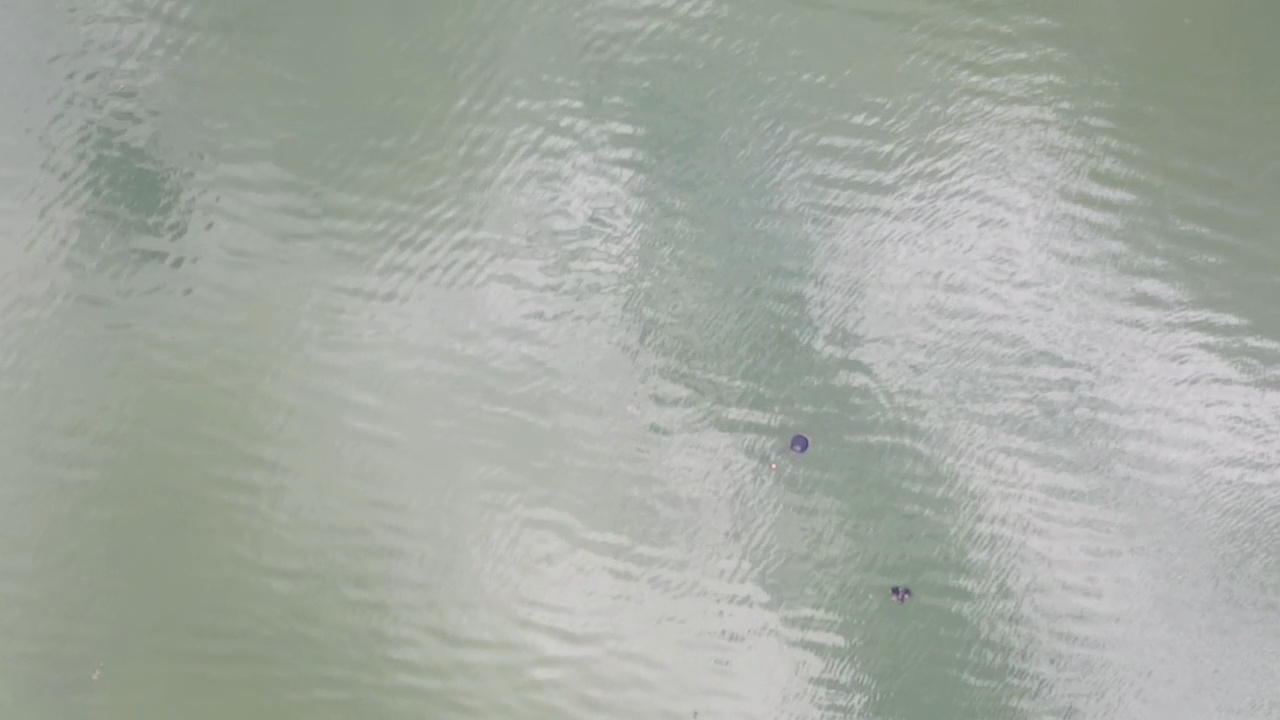meduse: (91, 670, 103, 682)
